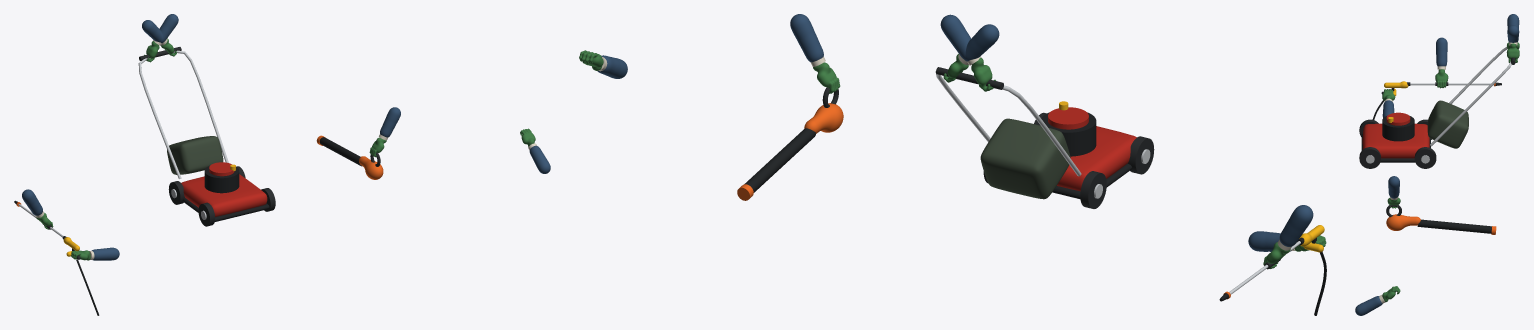
File: tools.glb
3 renders of one model, left to right at view 1: azimuth 30°, elevation 25°; view 2: azimuth 150°, elevation 25°; view 3: azimuth 270°, elevation 25°, orthographic. The views are drawn at different scales.
Visible parts, largest first — view 1: mower_deck, mower_bag, mower_handle, mower_engine, mower_skirt, blower_tube, blower_hand_r_sleeve; view 2: mower_bag, mower_deck, blower_tube, mower_engine, mower_handle, blower_hand_r_sleeve, washer_hand_l_sleeve, blower_body, mower_engine_top, mower_hand_r_sleeve, mower_hand_l_sleeve, mower_wheel.002 (+2 smaller); view 3: mower_deck, mower_bag, blower_tube, mower_engine, mower_handle, blower_body, mower_wheel.003, mower_wheel.001, washer_hand_l_sleeve, glove_grip_sleeve, mower_engine_top, blower_hand_r_sleeve (+9 smaller).
Part boxes in pixels (box(x1,y1,x2,y2)): mower_deck: box(181, 174, 267, 216); mower_bag: box(167, 136, 223, 174); mower_handle: box(138, 50, 228, 179); mower_engine: box(204, 165, 239, 193); mower_skirt: box(182, 198, 269, 221); blower_tube: box(319, 137, 362, 166); blower_hand_r_sleeve: box(380, 107, 400, 137); mower_bag: box(980, 118, 1070, 199); mower_deck: box(1057, 126, 1136, 191); blower_tube: box(744, 128, 815, 192); mower_engine: box(1041, 112, 1096, 156); mower_handle: box(935, 71, 1081, 176); blower_hand_r_sleeve: box(790, 14, 823, 62); washer_hand_l_sleeve: box(1279, 205, 1313, 246); blower_body: box(804, 103, 843, 133); mower_engine_top: box(1048, 107, 1088, 129); mower_hand_r_sleeve: box(965, 24, 999, 61); mower_hand_l_sleeve: box(940, 14, 971, 61); mower_wheel.002: box(1080, 171, 1106, 208); mower_deck: box(1362, 123, 1429, 158); mower_bag: box(1427, 100, 1468, 148); blower_tube: box(1417, 219, 1491, 233); mower_engine: box(1382, 115, 1414, 141); mower_handle: box(1430, 46, 1511, 146); blower_body: box(1386, 214, 1420, 230); mower_wheel.003: box(1414, 147, 1436, 168); mower_wheel.001: box(1359, 147, 1380, 168); washer_hand_l_sleeve: box(1436, 37, 1447, 66); glove_grip_sleeve: box(1355, 296, 1382, 315); mower_engine_top: box(1386, 112, 1410, 125); blower_hand_r_sleeve: box(1388, 176, 1399, 198).
Size of the model in its own units: 4.8 by 1.97 by 1.52.
